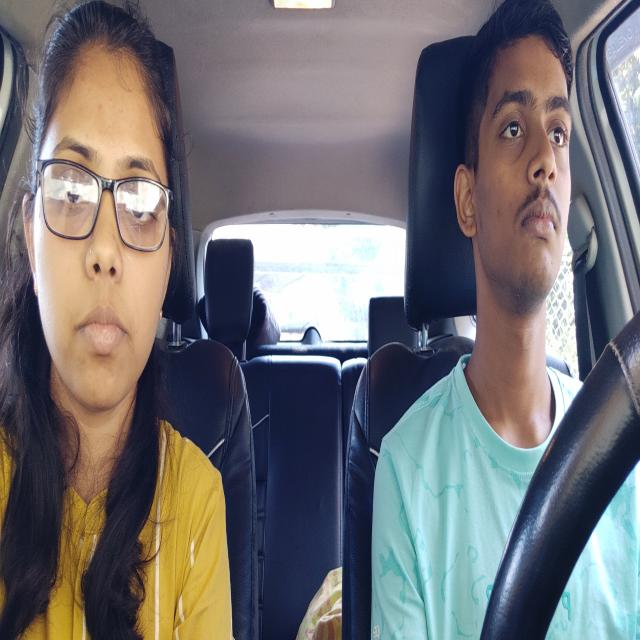person: (19, 0, 179, 428), (447, 7, 576, 324)
